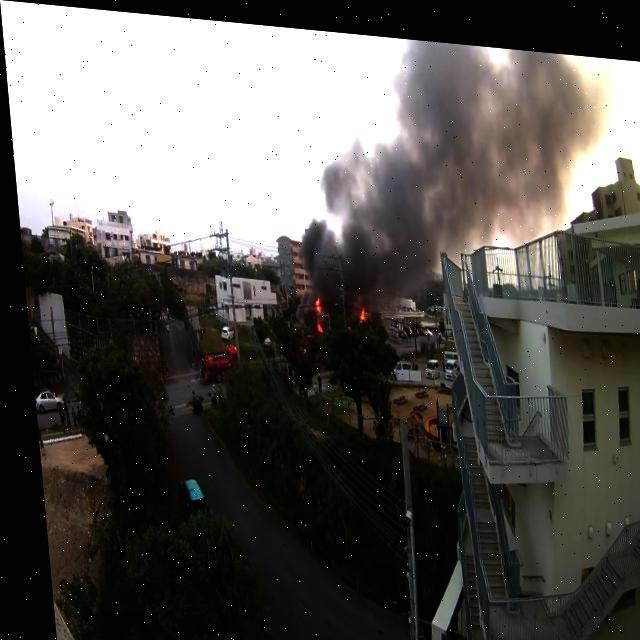Fire: (308, 288, 320, 309), (310, 314, 320, 328), (353, 302, 361, 316)
